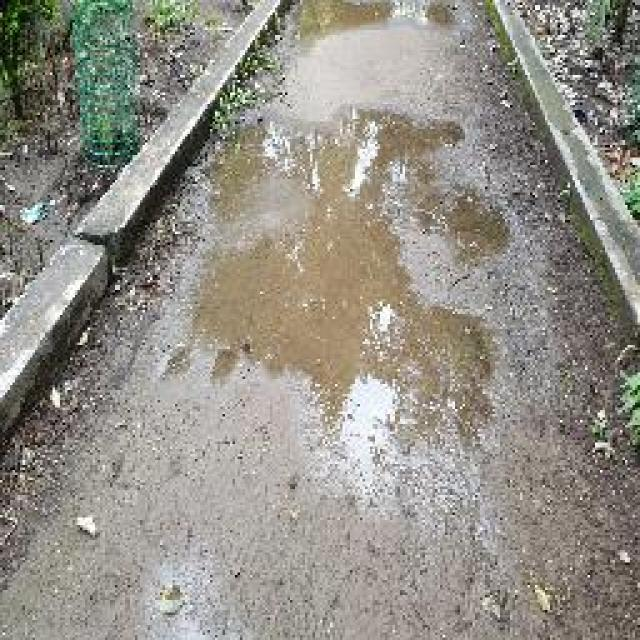puddle: (171, 105, 509, 493)
